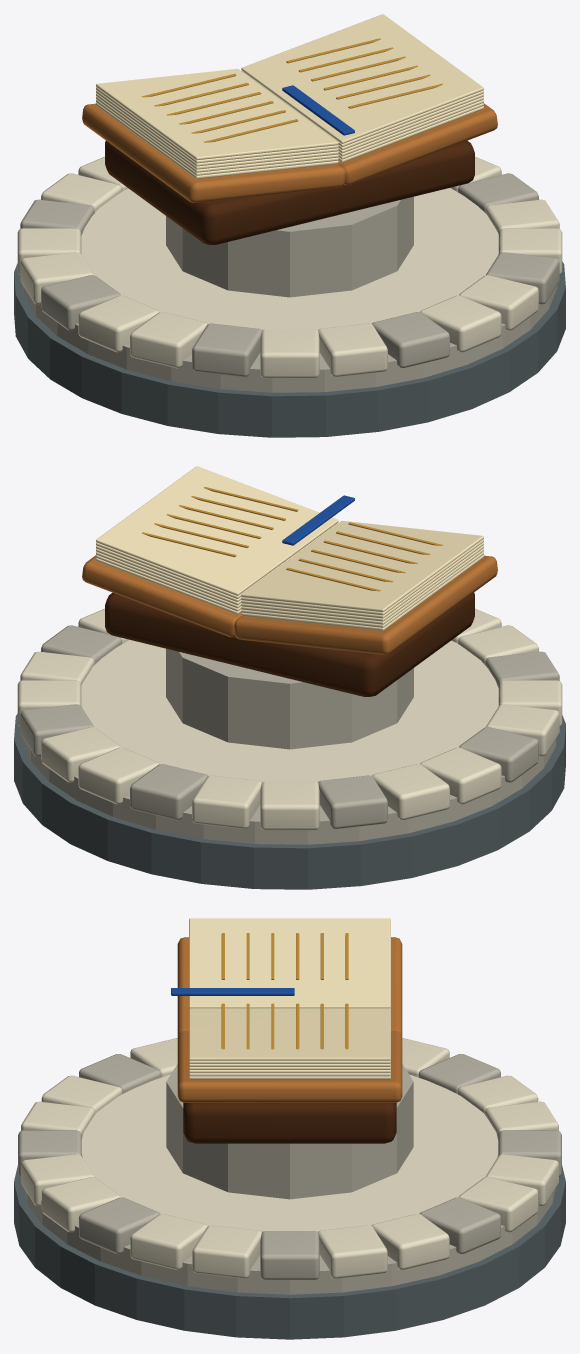
Rendered from OBJ33_open_book_altar.glb.
The picture shows the model from 3 angles, top to bottom: view 1: azimuth 30°, elevation 25°; view 2: azimuth 150°, elevation 25°; view 3: azimuth 270°, elevation 25°; orthographic projection.
Visible parts, largest first — view 1: Foundation, Paving, Lectern base, Visible page layer.013, Book support, Visible page layer.006, Stone platform, Bound cover, Bound cover.001, Radial stone block.015, Radial stone block.017, Radial stone block.014 (+28 smaller); view 2: Foundation, Paving, Lectern base, Visible page layer.013, Book support, Visible page layer.006, Stone platform, Bound cover, Bound cover.001, Radial stone block.007, Radial stone block.009, Radial stone block.006 (+28 smaller); view 3: Paving, Foundation, Visible page layer.006, Lectern base, Visible page layer.013, Book support, Stone platform, Bound cover.001, Radial stone block.001, Radial stone block.023, Radial stone block.002, Radial stone block.022 (+25 smaller).
Boxes of the visible parts, x1,y1,x2,y2 form: Foundation: [14, 261, 565, 437]; Paving: [81, 188, 498, 329]; Lectern base: [166, 196, 413, 297]; Visible page layer.013: [241, 14, 483, 143]; Book support: [105, 140, 474, 244]; Visible page layer.006: [96, 68, 338, 160]; Stone platform: [23, 284, 557, 392]; Bound cover: [82, 103, 345, 202]; Bound cover.001: [338, 103, 497, 185]; Radial stone block.015: [192, 323, 261, 376]; Radial stone block.017: [318, 323, 387, 376]; Radial stone block.014: [130, 312, 207, 368]; Foundation: [14, 713, 565, 889]; Paving: [81, 640, 498, 781]; Lectern base: [166, 648, 413, 749]; Visible page layer.013: [96, 466, 338, 595]; Book support: [105, 592, 474, 696]; Visible page layer.006: [241, 520, 483, 612]; Stone platform: [22, 736, 556, 844]; Bound cover: [234, 555, 497, 654]; Bound cover.001: [82, 555, 241, 637]; Radial stone block.007: [192, 775, 261, 828]; Radial stone block.009: [318, 775, 387, 828]; Radial stone block.006: [130, 764, 207, 820]; Paving: [81, 1074, 498, 1231]; Foundation: [14, 1165, 565, 1339]; Visible page layer.006: [189, 918, 390, 1008]; Lectern base: [166, 1064, 413, 1199]; Visible page layer.013: [189, 1008, 390, 1060]; Book support: [183, 1102, 396, 1143]; Stone platform: [24, 1188, 555, 1294]; Bound cover.001: [177, 1030, 402, 1102]; Radial stone block.001: [318, 1225, 387, 1278]; Radial stone block.023: [192, 1225, 261, 1278]; Radial stone block.002: [371, 1214, 449, 1269]; Radial stone block.022: [130, 1214, 208, 1269].
Bounding box in the file's own units: 2.9 × 1.36 × 2.9.
